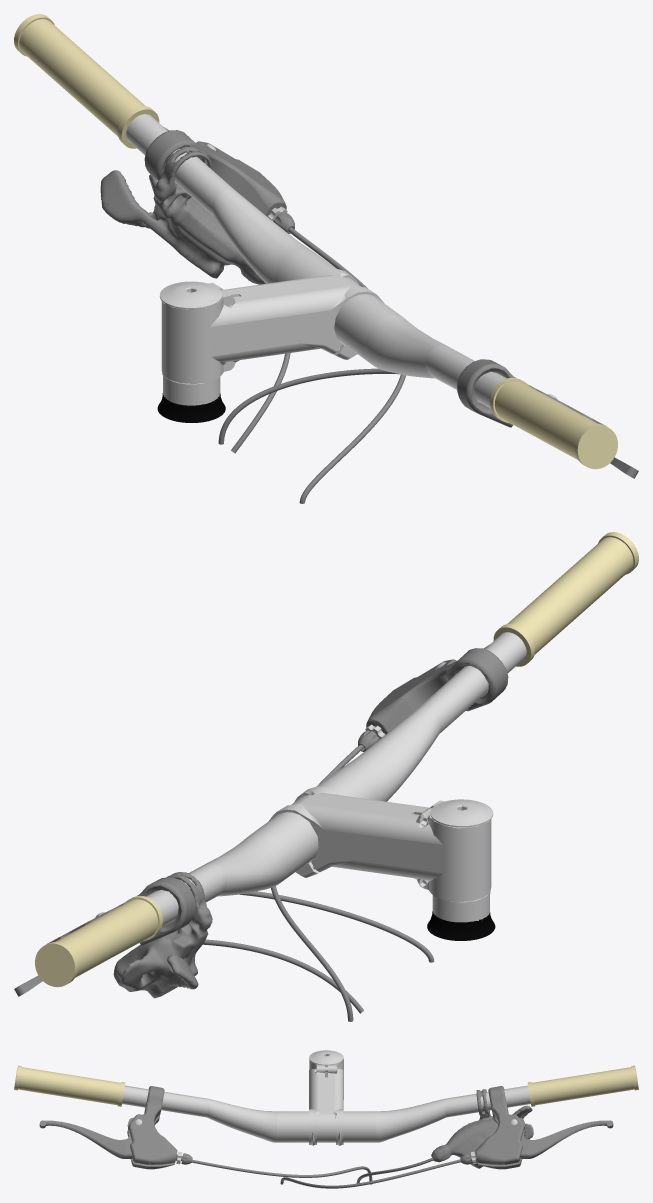
File: Handle1_Riser_Shifter.glb
The picture shows the model from 3 angles, top to bottom: view 1: azimuth 30°, elevation 25°; view 2: azimuth 150°, elevation 25°; view 3: azimuth 270°, elevation 25°; orthographic projection. The views are drawn at different scales.
Parts seen in each view (by area): view 1: no_transformations (×6); view 2: no_transformations (×6); view 3: no_transformations (×5).
Boxes of the visible parts, x1=… form: no_transformations (×6): x1=14, y1=14, x2=638, y2=503; no_transformations (×6): x1=14, y1=532, x2=638, y2=1021; no_transformations (×5): x1=14, y1=1050, x2=638, y2=1188.
Bounding box in the file's own units: 175 × 148 × 632.
